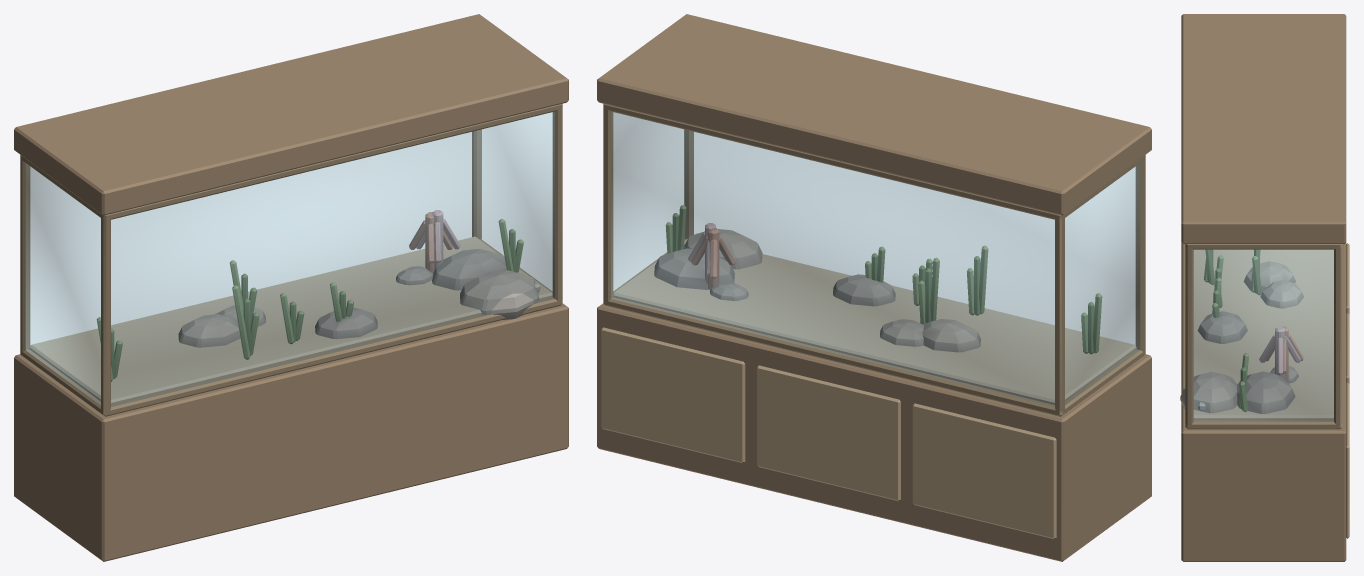
The model's file is furn_aquarium_big__walnut.glb.
3 views of the same model, side by side, from view 1: azimuth 30°, elevation 25°; view 2: azimuth 150°, elevation 25°; view 3: azimuth 270°, elevation 25° (orthographic). The views are drawn at different scales.
Bounding box in the file's own units: 2.4 × 1.82 × 0.8194.
